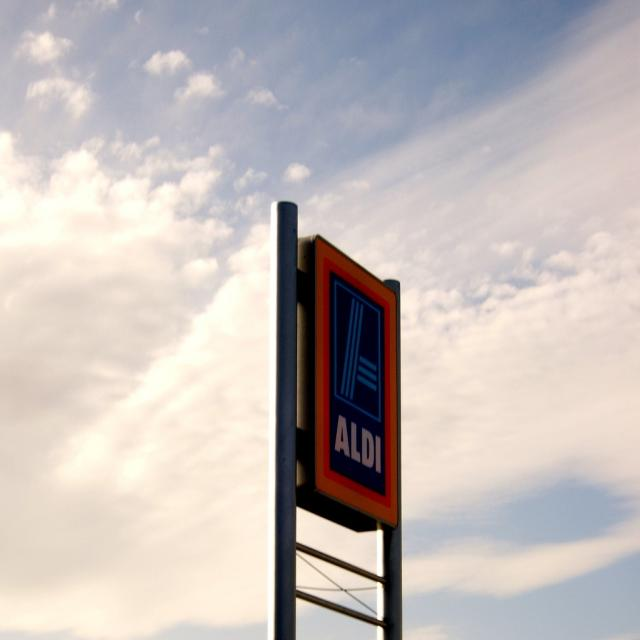aldi: (315, 236, 398, 527)
